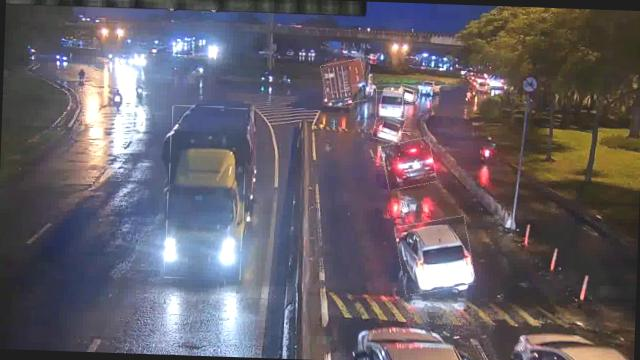Bike: (106, 88, 123, 110)
Bus: (376, 90, 406, 119)
Car: (396, 217, 475, 295), (382, 138, 436, 190), (372, 114, 404, 144), (398, 85, 420, 104)
Truck: (165, 105, 248, 281), (322, 60, 368, 106)
